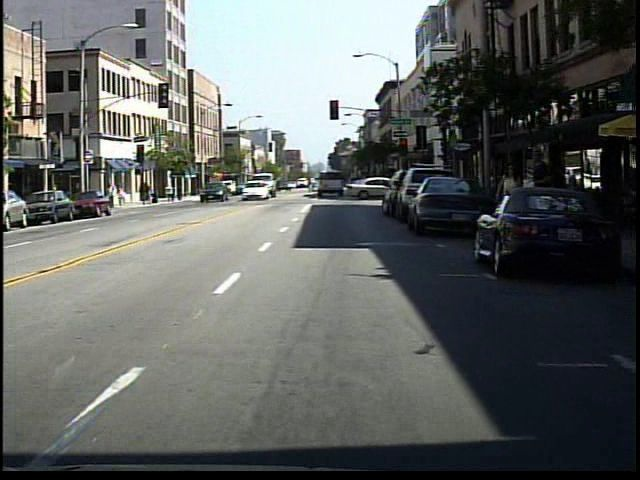person: (520, 144, 554, 252), (496, 155, 523, 249), (119, 185, 132, 211), (105, 181, 119, 205)
